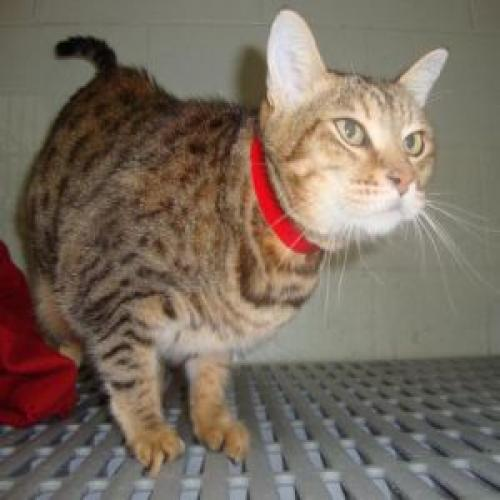cat-face: (260, 7, 470, 252)
